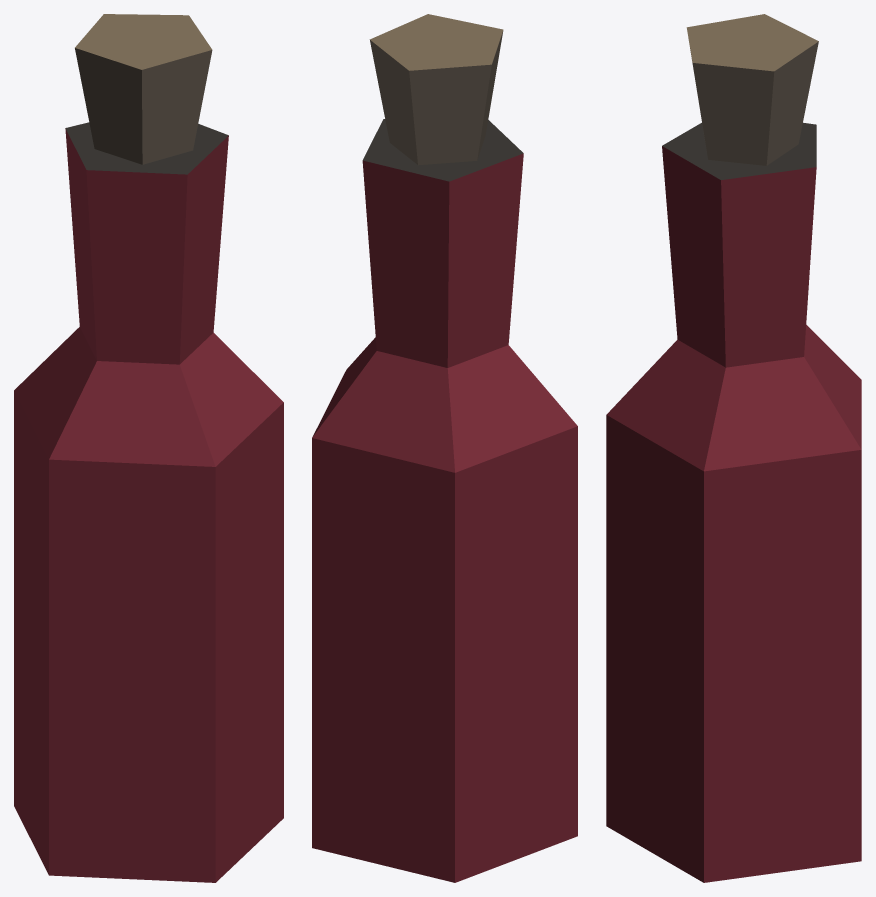
The model's file is TB_D_Prop_Bottle_Tall_D.FBX.
3 views of the same model, side by side, from view 1: azimuth 30°, elevation 25°; view 2: azimuth 150°, elevation 25°; view 3: azimuth 270°, elevation 25° (orthographic).
Parts seen in each view (by area): view 1: TB_D_Prop_Bottle_Tall_D; view 2: TB_D_Prop_Bottle_Tall_D; view 3: TB_D_Prop_Bottle_Tall_D.
Boxes of the visible parts, bbox=[...] form: TB_D_Prop_Bottle_Tall_D: bbox=[14, 14, 283, 882]; TB_D_Prop_Bottle_Tall_D: bbox=[312, 14, 577, 882]; TB_D_Prop_Bottle_Tall_D: bbox=[606, 14, 861, 882].
Size of the model in its own units: 0.2856 by 0.9197 by 0.2716.
